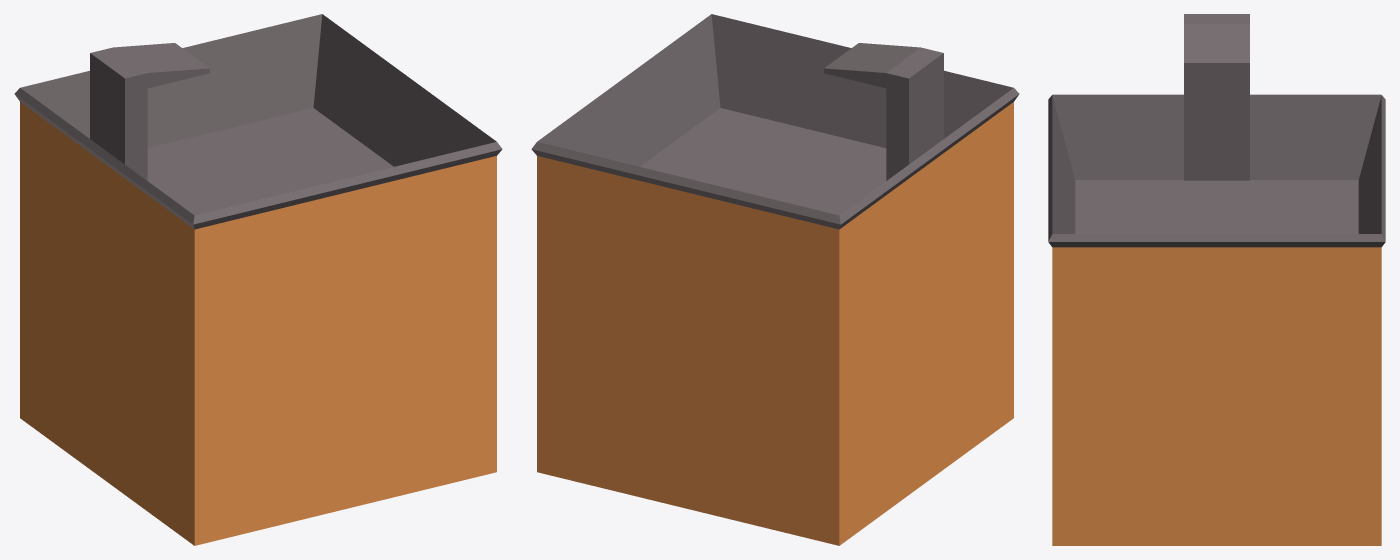
File: Sink.fbx
3 renders of one model, left to right at view 1: azimuth 30°, elevation 25°; view 2: azimuth 150°, elevation 25°; view 3: azimuth 270°, elevation 25°, orthographic. The views are drawn at different scales.
Parts seen in each view (by area): view 1: Sink; view 2: Sink; view 3: Sink.
Part boxes in pixels (x1,y1,x2,y2): Sink: (14, 14, 502, 545); Sink: (531, 14, 1019, 545); Sink: (1048, 14, 1385, 545).
Bounding box in the file's own units: 205 × 263 × 205.
